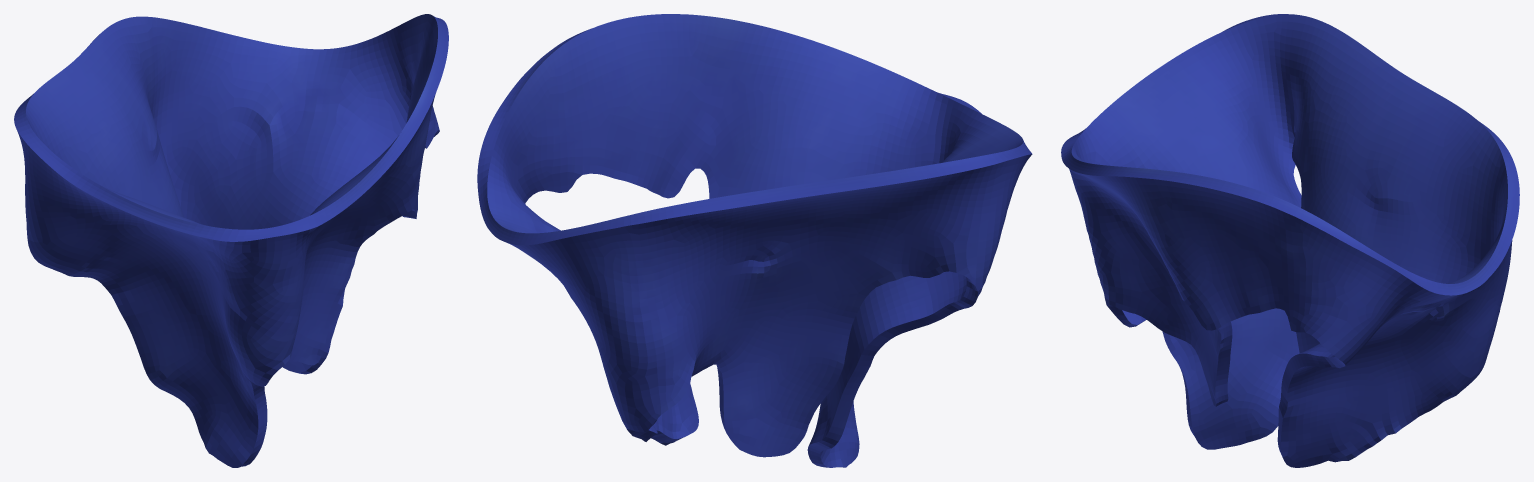
3 views of the same model, side by side, from view 1: azimuth 30°, elevation 25°; view 2: azimuth 150°, elevation 25°; view 3: azimuth 270°, elevation 25° (orthographic). The views are drawn at different scales.
Visible parts, largest first — view 1: OCS14_maxS_8; view 2: OCS14_maxS_8; view 3: OCS14_maxS_8.
Boxes of the visible parts, x1=… form: OCS14_maxS_8: x1=14, y1=14, x2=448, y2=467; OCS14_maxS_8: x1=477, y1=14, x2=1032, y2=467; OCS14_maxS_8: x1=1061, y1=14, x2=1519, y2=467.
Bounding box in the file's own units: 1.46 × 1.17 × 1.33.
